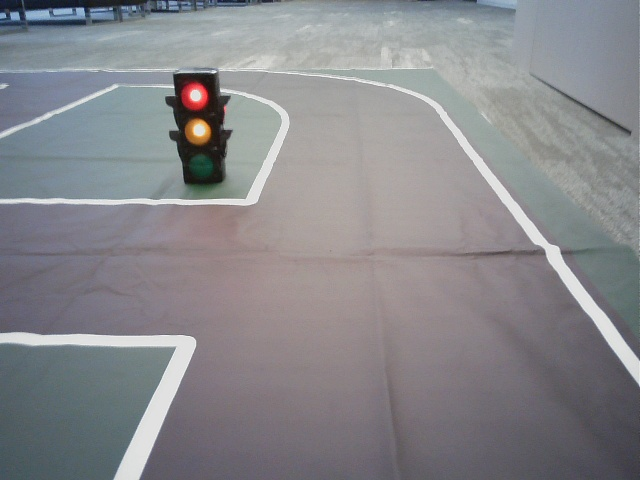red: (178, 73, 218, 179)
